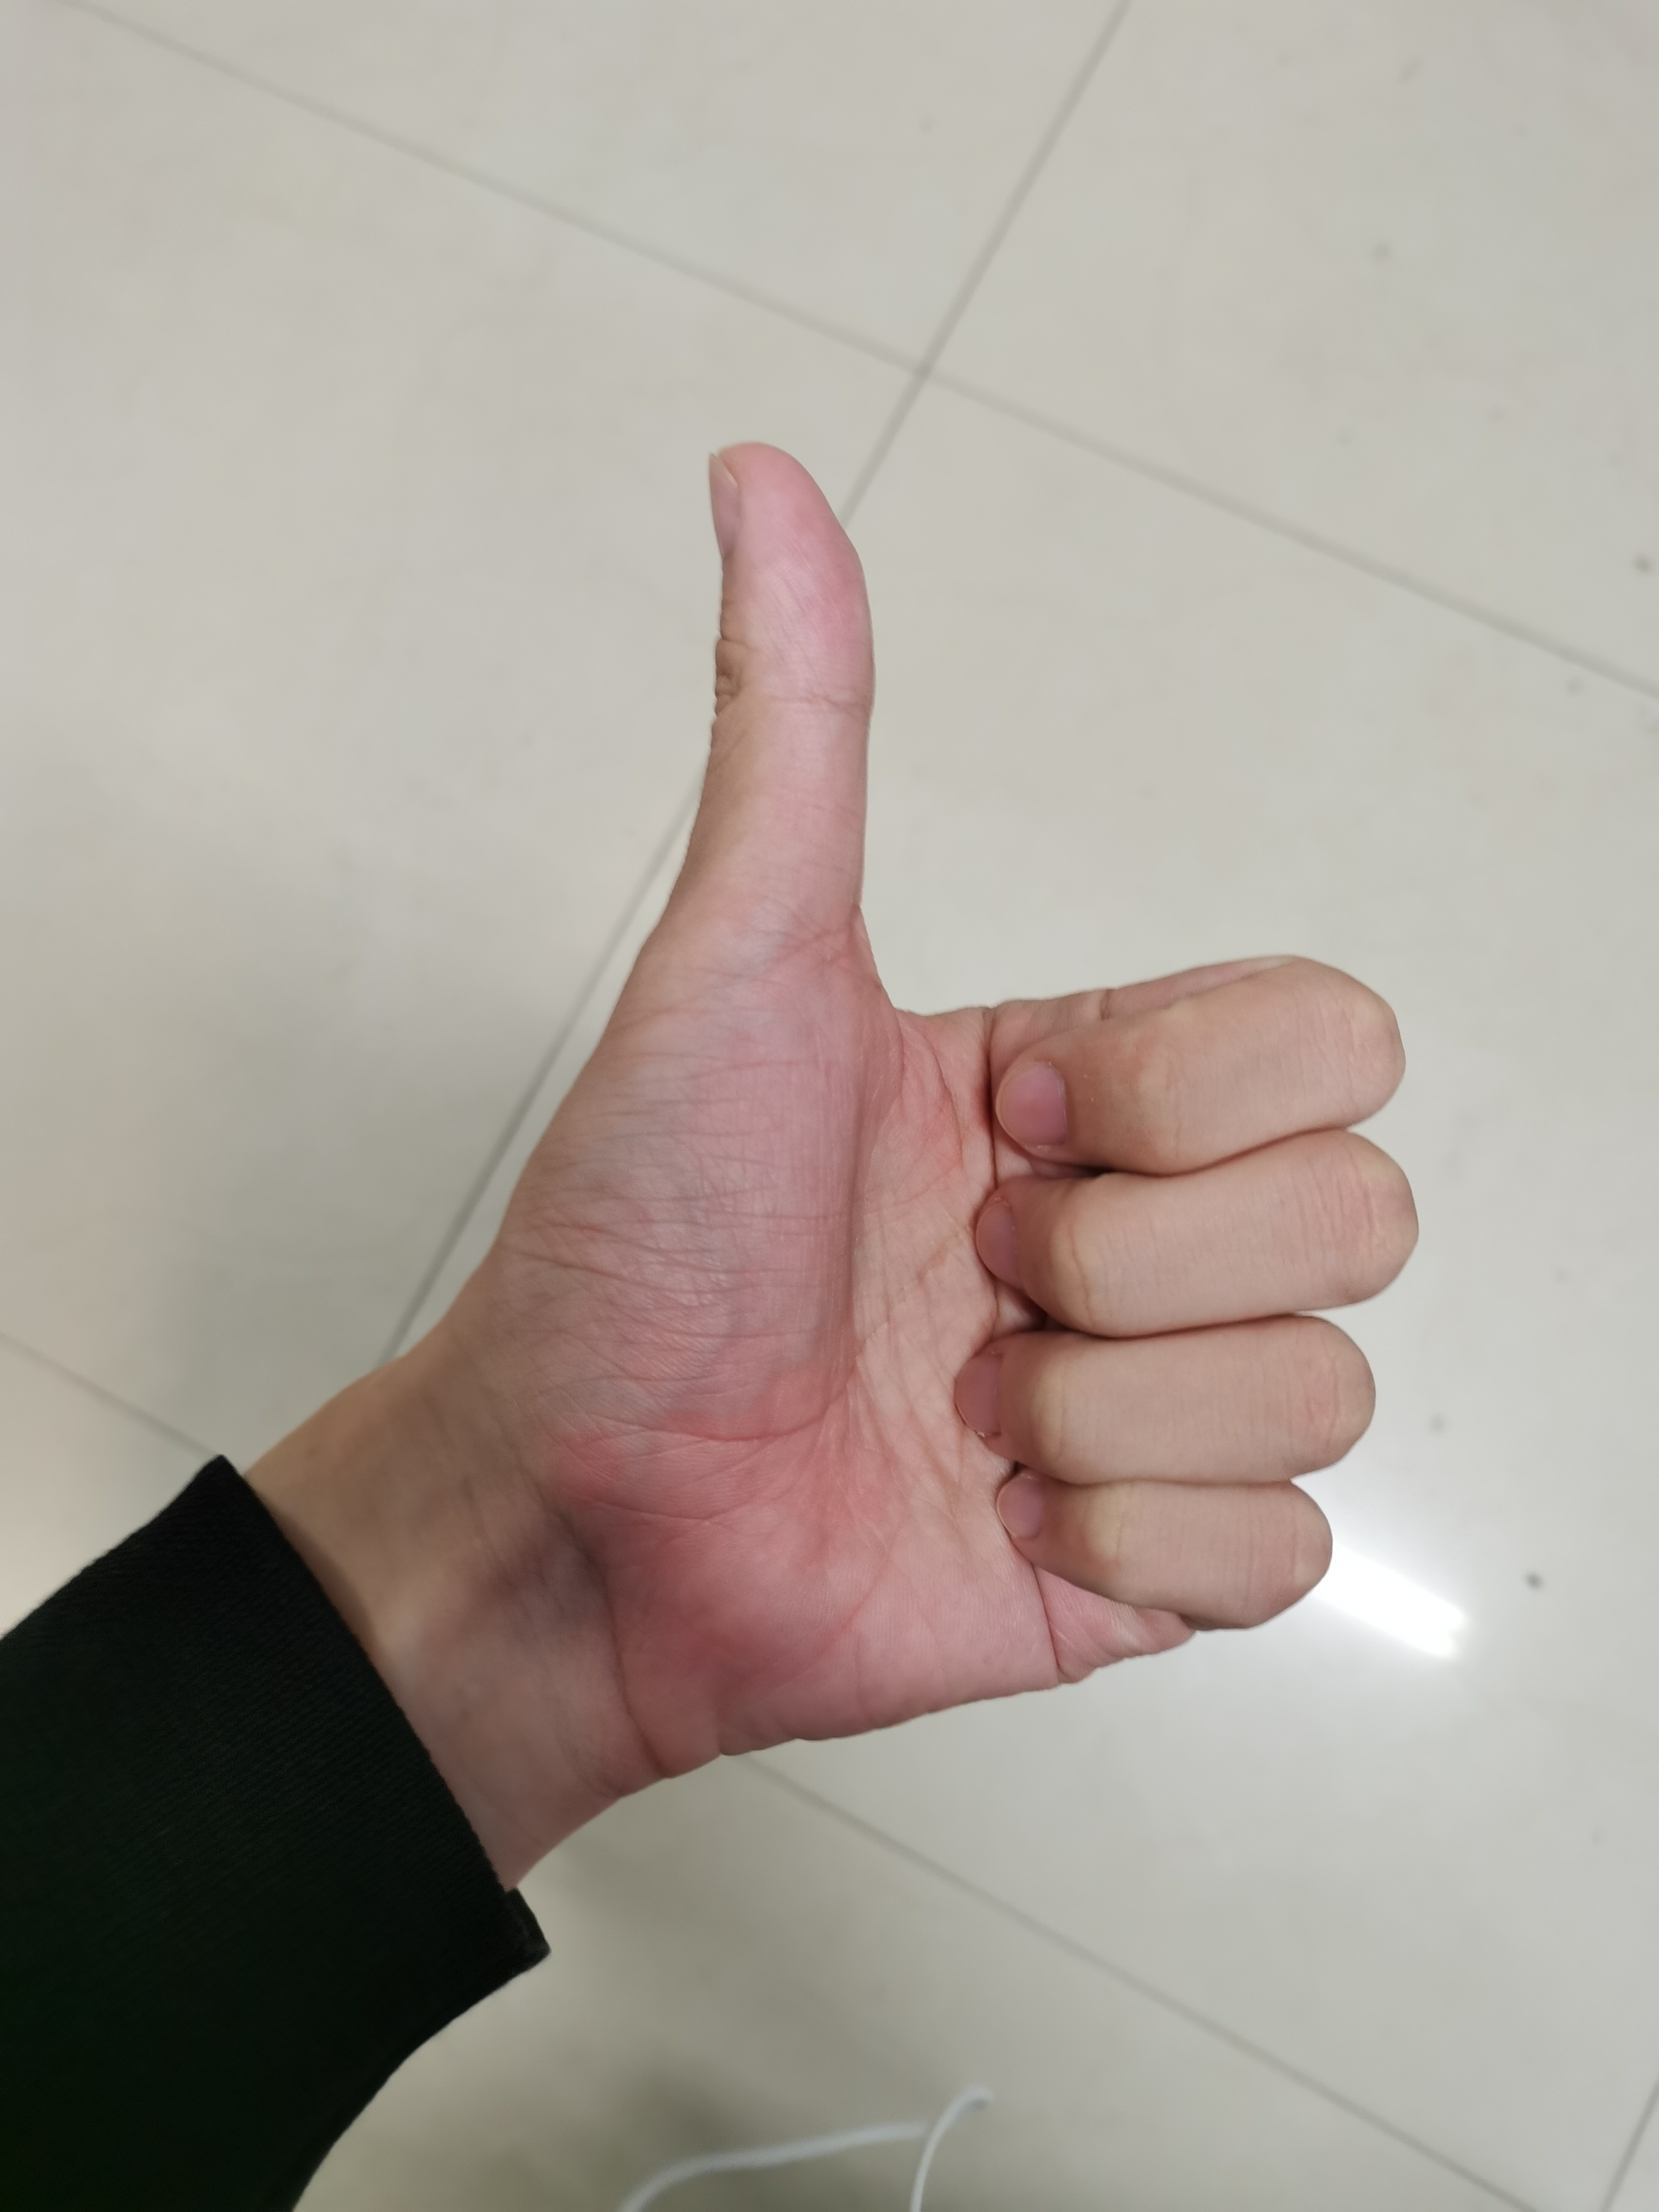no-phone: (329, 418, 1464, 1771)
